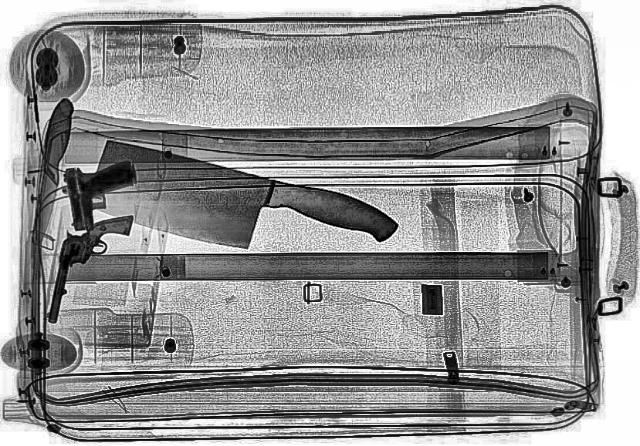Gun: (44, 210, 134, 328), (56, 162, 144, 232)
Knife: (68, 138, 406, 278), (22, 98, 74, 246)
